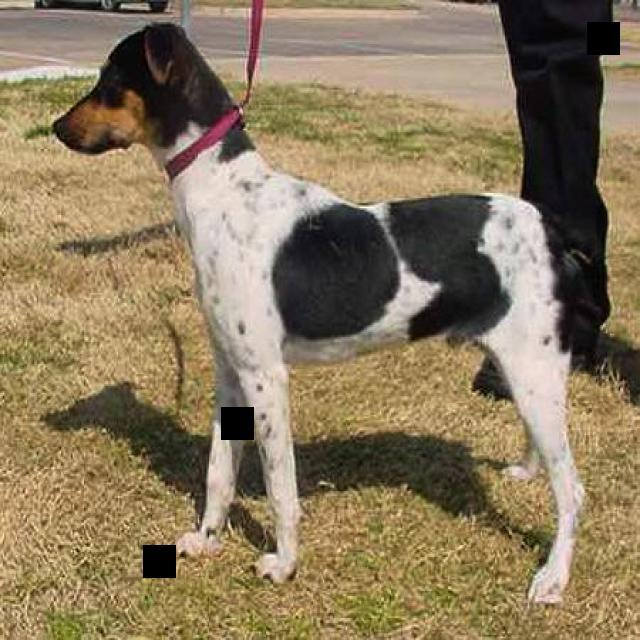adult_dog: (52, 19, 612, 616)
